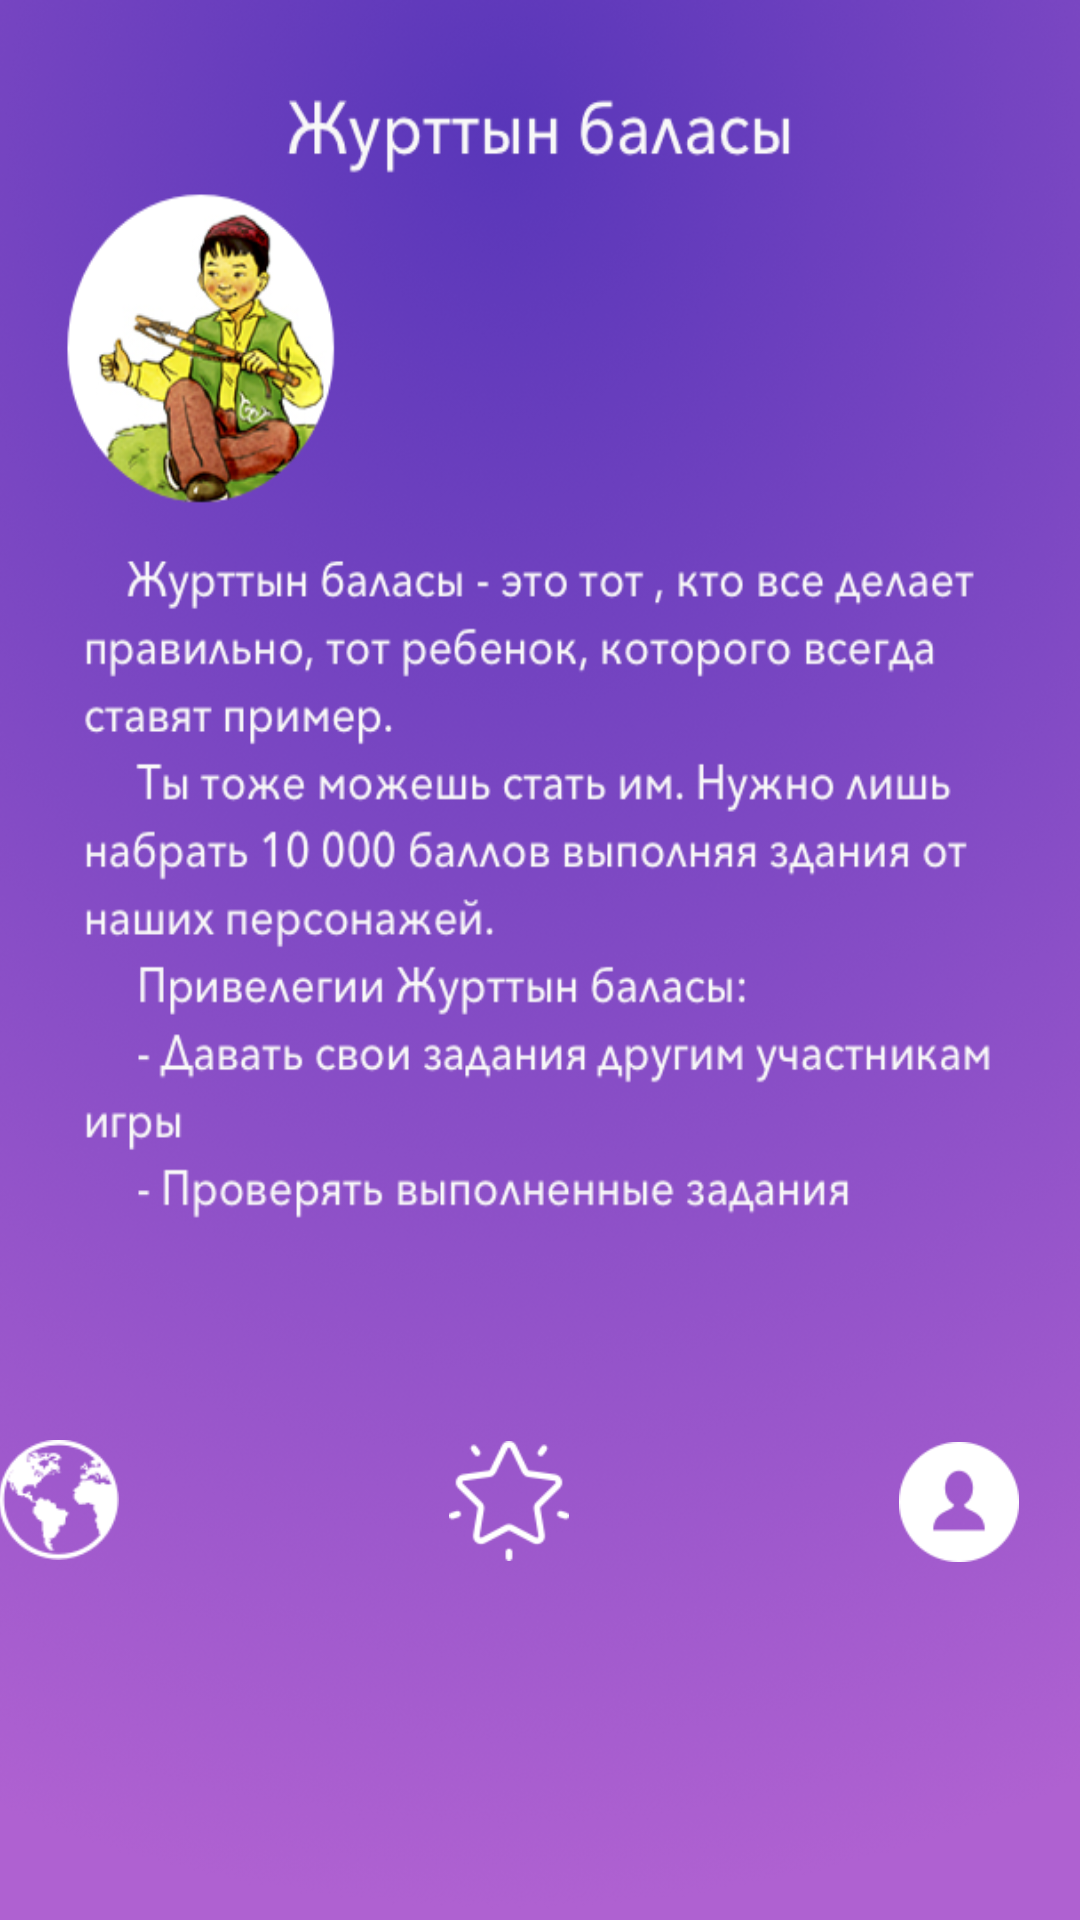

Point at icon controls on the screen. Image size 1080×1920, points as (x=x, y=y).
earth: (x=59, y=1500)
favorites: (x=509, y=1501)
user: (x=959, y=1502)
